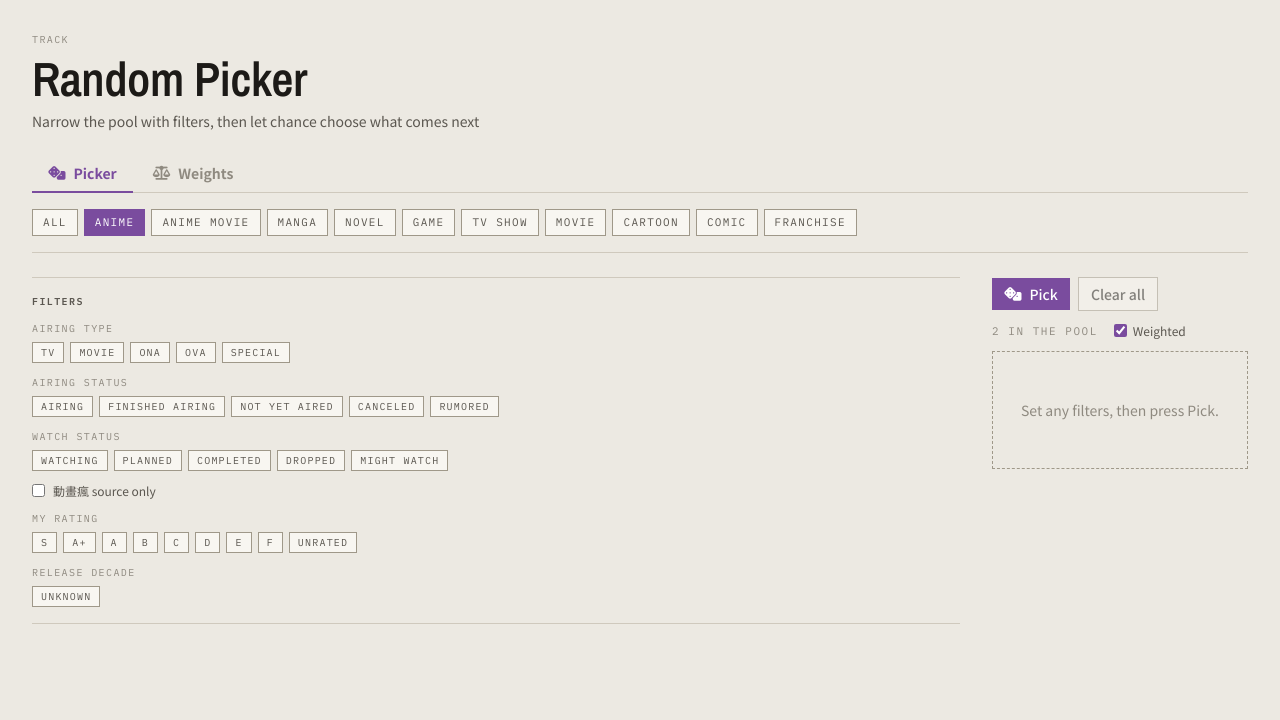
Scenario: clears every filter and the pick with Clear all
Expected: the text "2 in the pool" is shown, [992,322,1098,339]
Expected: the button "Clear all" is disabled, [1078,276,1158,310]
What coordinates should you click on to do the following:
click the button "Special"
I would click on:
 (256, 352)
Its box is [222,342,290,362].
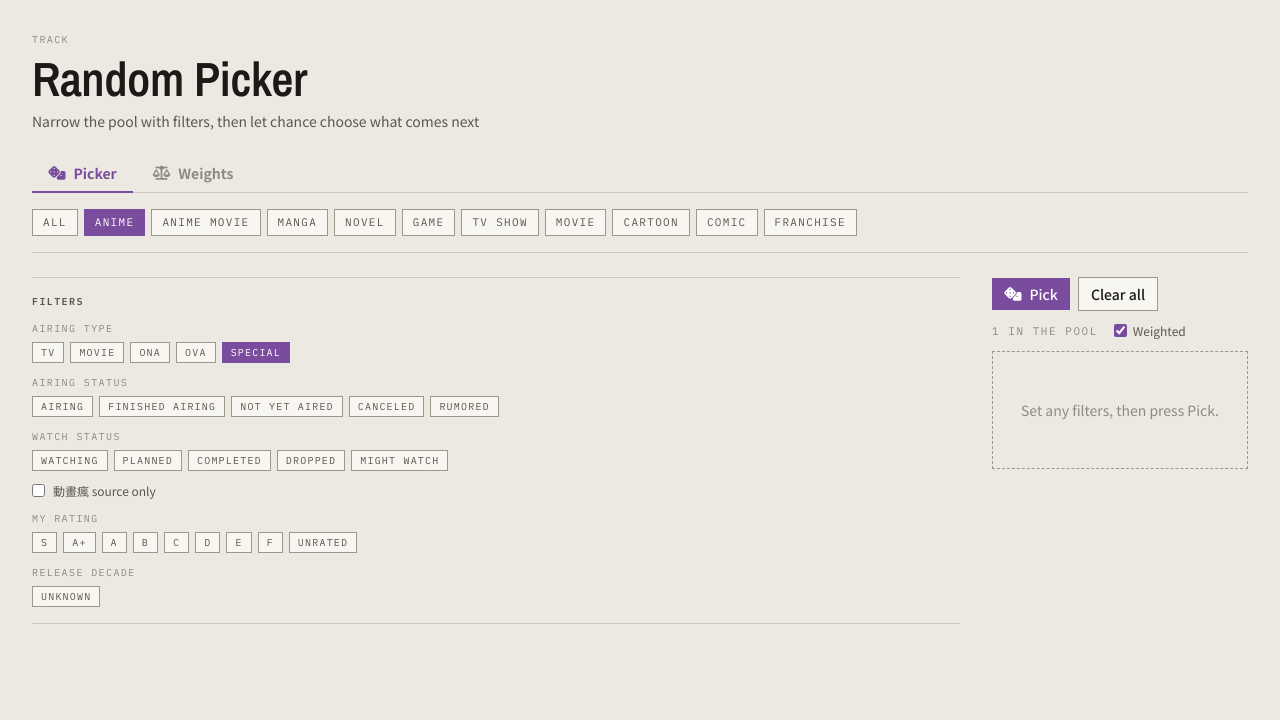
What coordinates should you click on to do the following:
click the button "Pick"
I would click on:
 (1031, 294)
Its box is [992,278,1070,310].
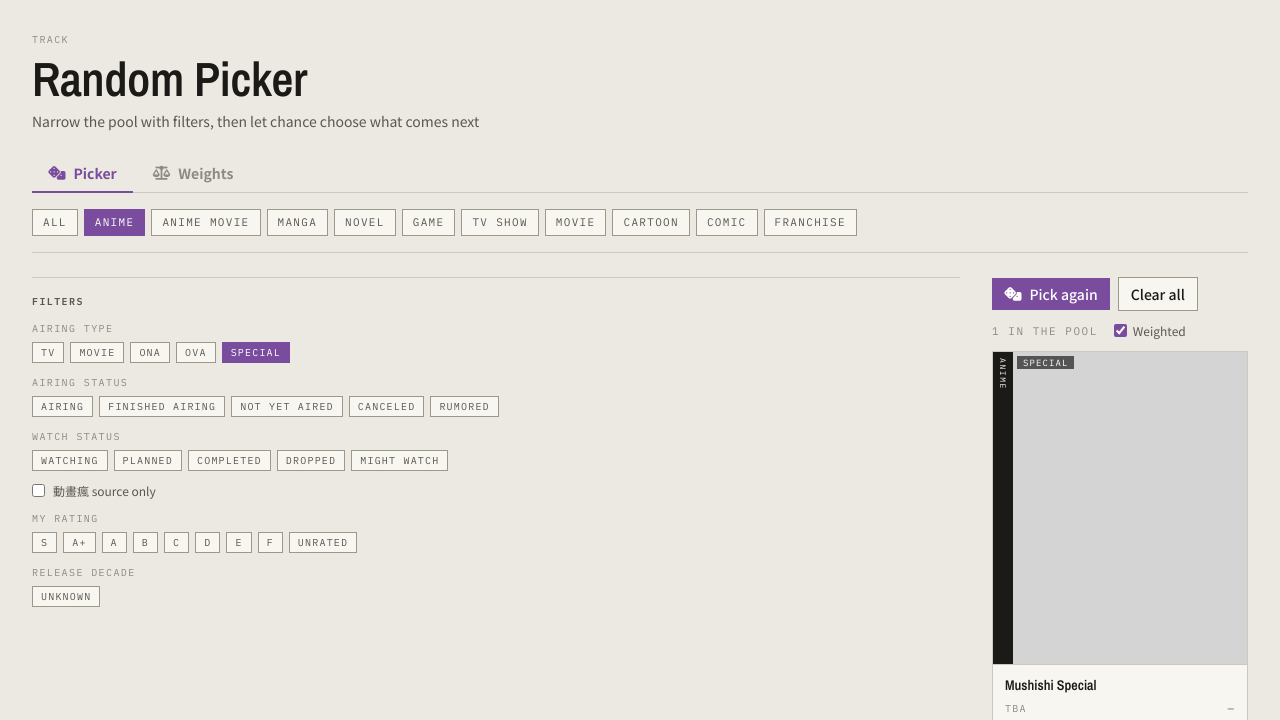
Expected: the link "Mushishi Special" is shown, [1005,677,1096,694]
What coordinates should you click on to do the following:
click the button "Clear all"
I would click on:
 (1158, 294)
Its box is [1118,276,1198,310].
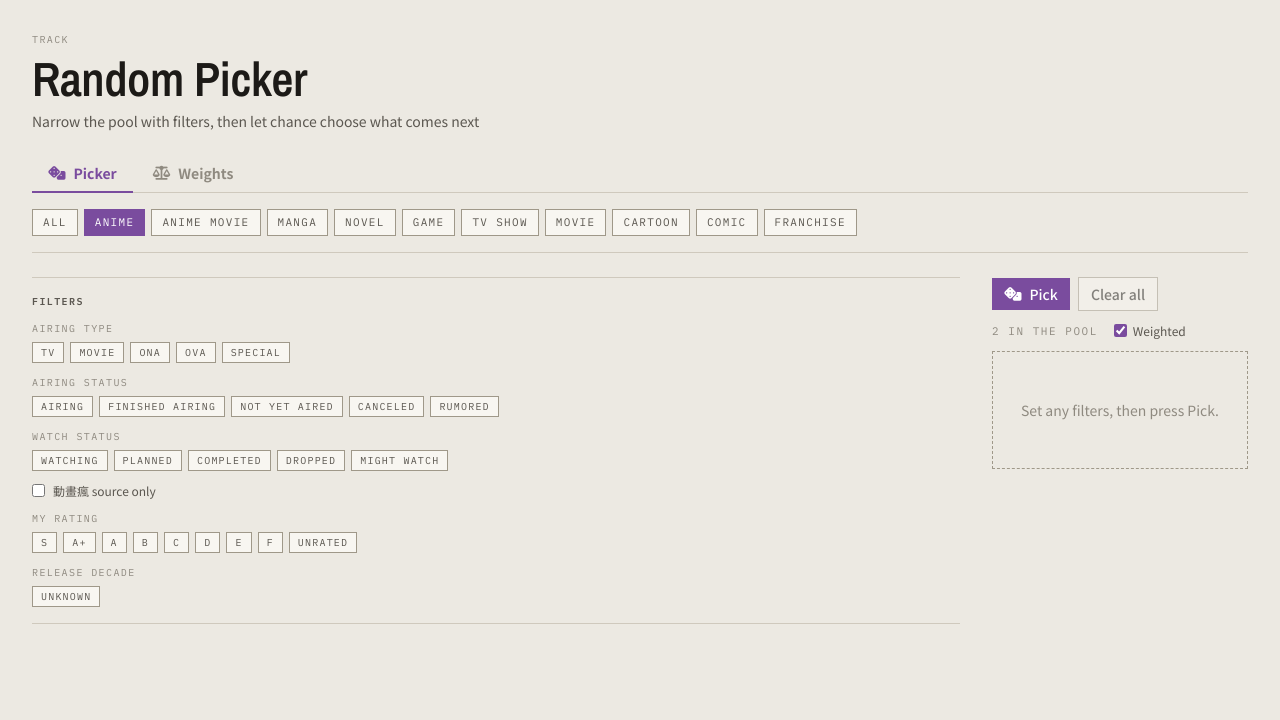
Expected: the text "2 in the pool" is shown, [992,322,1098,339]
Expected: the link "Mushishi Special" is gone
Expected: the button "Clear all" is disabled, [1078,276,1158,310]
